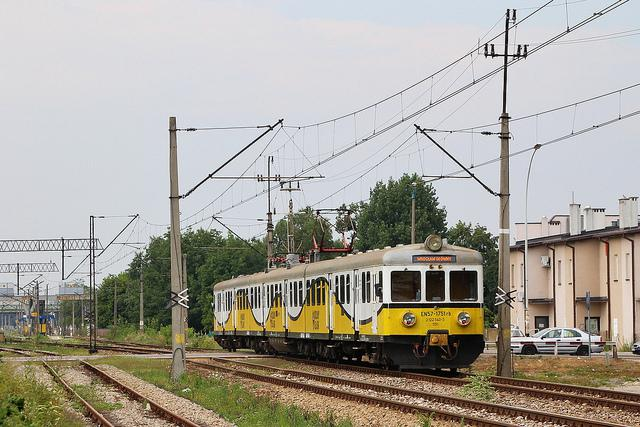Train: (210, 236, 488, 374)
